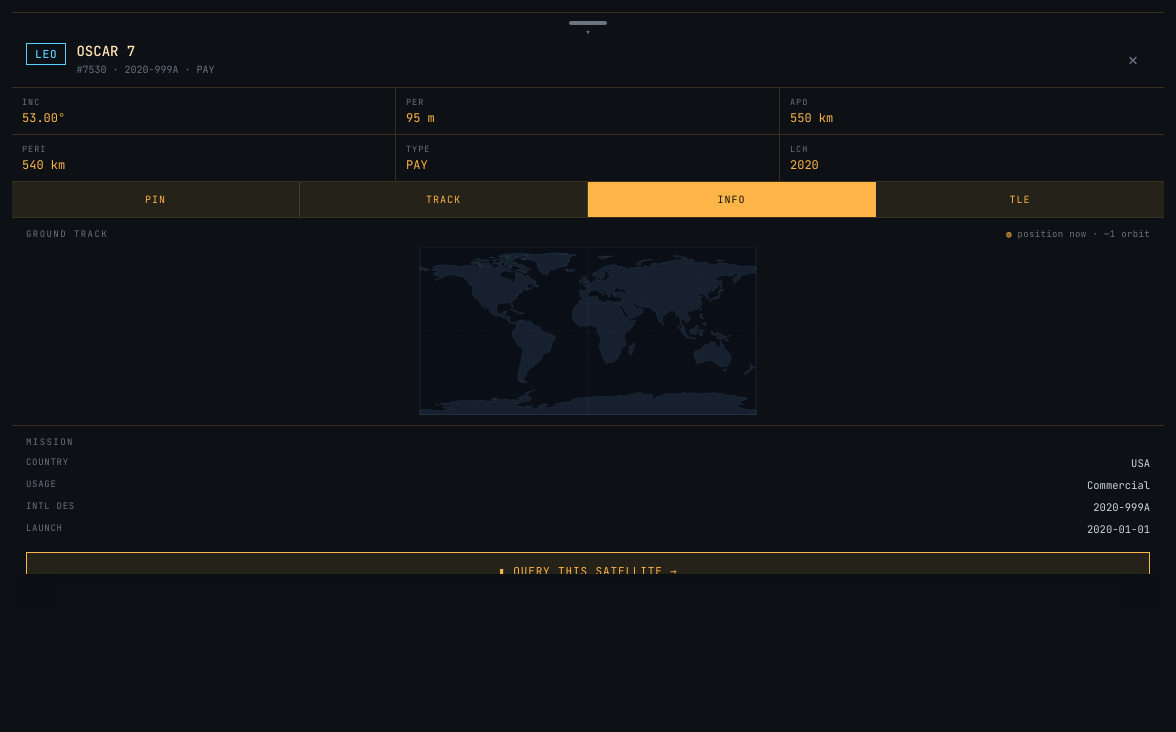
Test: InfoSheet › reveals the real TLE lines when TLE is tapped
Click the button "TLE".
click(1020, 200)  # box [876,182,1164,217]
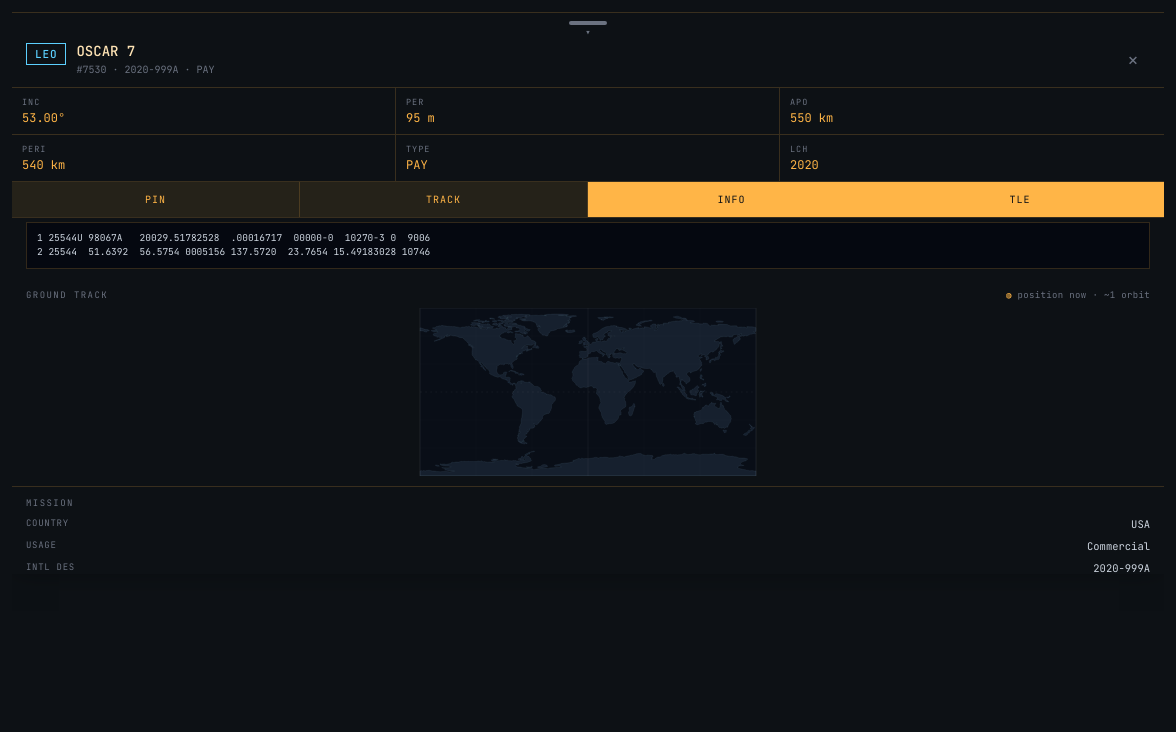
Result: the text "1 25544U 98067A 20029.51782528 .00016717 00000-0 10270-3 0 9006" is shown at [37,231,430,244]
